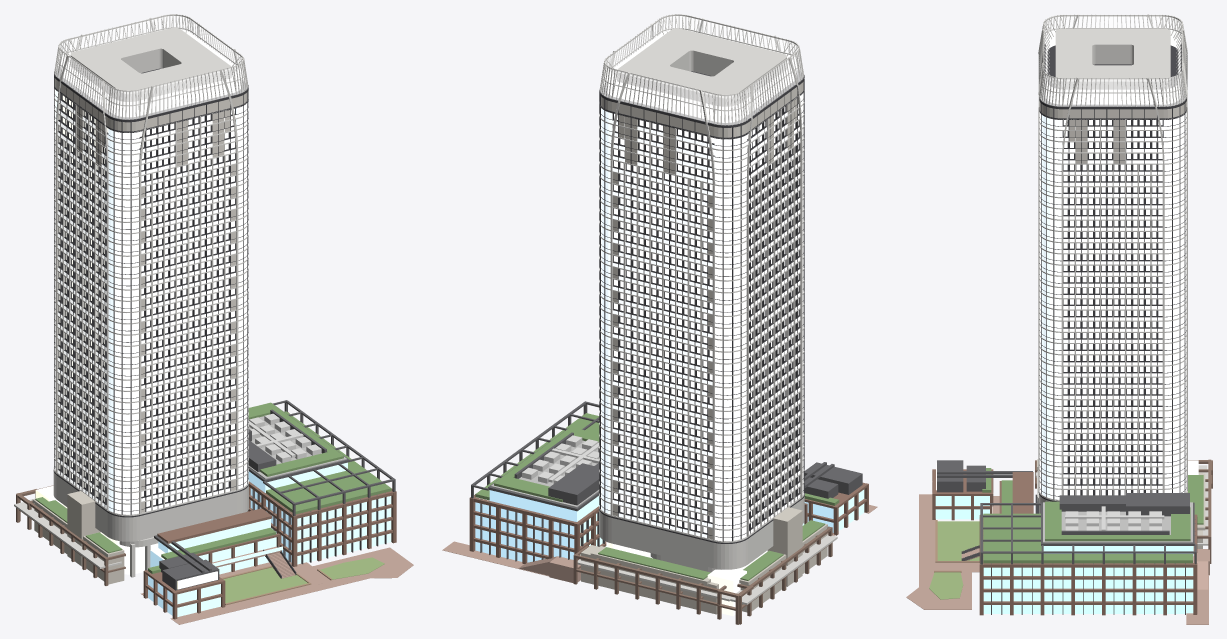
Rendered from branz.glb.
3 views of the same model, side by side, from view 1: azimuth 30°, elevation 25°; view 2: azimuth 150°, elevation 25°; view 3: azimuth 270°, elevation 25° (orthographic). The views are drawn at different scales.
Visible parts, largest first — view 1: Tower_White_Slabs_Mullions, Tower_DarkBronze_Frames_Core, Tower_Corner_CurtainGlass, Tower_Balcony_FrostedGlass, Tower_Warm_Interior_Windows, Tower_Champagne_Collar_Podium, Tower_Illuminated_Crown, Tower_Accent_Ivory_Panels, Annex2_DarkBronze_Frames_Roof, Annex2_Rooftop_Greenery, Annex2_CurtainWall_Glass, Annex2_Terracotta_Brick_Grid (+13 smaller); view 2: Tower_White_Slabs_Mullions, Tower_DarkBronze_Frames_Core, Tower_Balcony_FrostedGlass, Tower_Corner_CurtainGlass, Tower_Warm_Interior_Windows, Tower_Champagne_Collar_Podium, Tower_Illuminated_Crown, Tower_Accent_Ivory_Panels, Tower_Podium_South_CoreShaft_and_Walls, Annex2_DarkBronze_Frames_Roof, Annex2_CurtainWall_Glass, Tower_Podium_Brown_Colonnade (+12 smaller); view 3: Tower_DarkBronze_Frames_Core, Tower_White_Slabs_Mullions, Tower_Corner_CurtainGlass, Tower_Warm_Interior_Windows, Tower_Balcony_FrostedGlass, Annex2_CurtainWall_Glass, Tower_Champagne_Collar_Podium, Annex2_DarkBronze_Frames_Roof, Annex2_Rooftop_Greenery, Annex2_Terracotta_Brick_Grid, Tower_Illuminated_Crown, Waterfront_Brick_Promenade (+12 smaller).
Part boxes in pixels (x1=…): Tower_White_Slabs_Mullions: x1=54, y1=14, x2=248, y2=515; Tower_DarkBronze_Frames_Core: x1=53, y1=67, x2=248, y2=517; Tower_Corner_CurtainGlass: x1=54, y1=89, x2=248, y2=514; Tower_Balcony_FrostedGlass: x1=58, y1=100, x2=236, y2=511; Tower_Warm_Interior_Windows: x1=59, y1=95, x2=234, y2=574; Tower_Champagne_Collar_Podium: x1=14, y1=27, x2=248, y2=577; Tower_Illuminated_Crown: x1=55, y1=15, x2=246, y2=119; Tower_Accent_Ivory_Panels: x1=54, y1=78, x2=248, y2=512; Annex2_DarkBronze_Frames_Roof: x1=248, y1=400, x2=395, y2=564; Annex2_Rooftop_Greenery: x1=248, y1=402, x2=391, y2=514; Annex2_CurtainWall_Glass: x1=248, y1=462, x2=391, y2=564; Annex2_Terracotta_Brick_Grid: x1=247, y1=412, x2=396, y2=566; Tower_White_Slabs_Mullions: x1=599, y1=14, x2=804, y2=541; Tower_DarkBronze_Frames_Core: x1=599, y1=70, x2=804, y2=543; Tower_Balcony_FrostedGlass: x1=612, y1=104, x2=800, y2=537; Tower_Corner_CurtainGlass: x1=601, y1=93, x2=803, y2=541; Tower_Warm_Interior_Windows: x1=606, y1=107, x2=798, y2=569; Tower_Champagne_Collar_Podium: x1=577, y1=28, x2=837, y2=604; Tower_Illuminated_Crown: x1=601, y1=16, x2=802, y2=124; Tower_Accent_Ivory_Panels: x1=601, y1=81, x2=803, y2=539; Tower_Podium_South_CoreShaft_and_Walls: x1=581, y1=507, x2=827, y2=614; Annex2_DarkBronze_Frames_Roof: x1=471, y1=401, x2=604, y2=561; Annex2_CurtainWall_Glass: x1=475, y1=490, x2=606, y2=562; Tower_Podium_Brown_Colonnade: x1=573, y1=526, x2=832, y2=624; Tower_DarkBronze_Frames_Core: x1=1035, y1=44, x2=1186, y2=513; Tower_White_Slabs_Mullions: x1=1038, y1=14, x2=1187, y2=500; Tower_Corner_CurtainGlass: x1=1039, y1=112, x2=1186, y2=499; Tower_Warm_Interior_Windows: x1=1063, y1=120, x2=1162, y2=495; Tower_Balcony_FrostedGlass: x1=1062, y1=126, x2=1163, y2=488; Annex2_CurtainWall_Glass: x1=983, y1=546, x2=1193, y2=613; Tower_Champagne_Collar_Podium: x1=1035, y1=28, x2=1208, y2=545; Annex2_DarkBronze_Frames_Roof: x1=980, y1=493, x2=1196, y2=614; Annex2_Rooftop_Greenery: x1=983, y1=501, x2=1192, y2=563; Annex2_Terracotta_Brick_Grid: x1=979, y1=514, x2=1197, y2=615; Tower_Illuminated_Crown: x1=1041, y1=16, x2=1184, y2=106; Waterfront_Brick_Promenade: x1=906, y1=494, x2=1208, y2=624.
Bounding box in the file's own units: 93.79 × 150 × 86.68.
